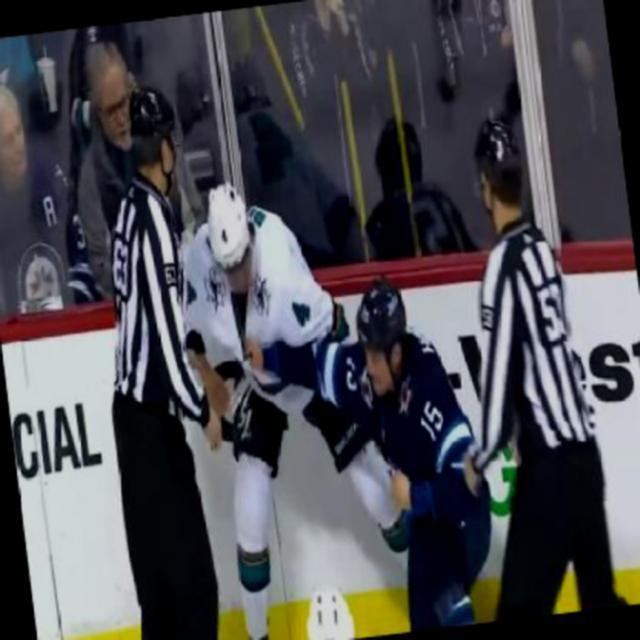fight: (171, 154, 504, 638)
non-fight: (70, 80, 244, 638), (444, 110, 622, 619)
